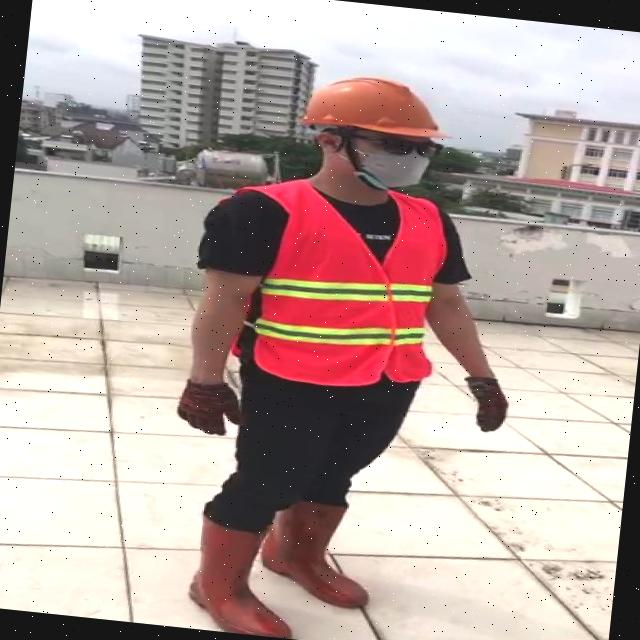boots: (180, 512, 302, 638), (258, 496, 378, 608)
